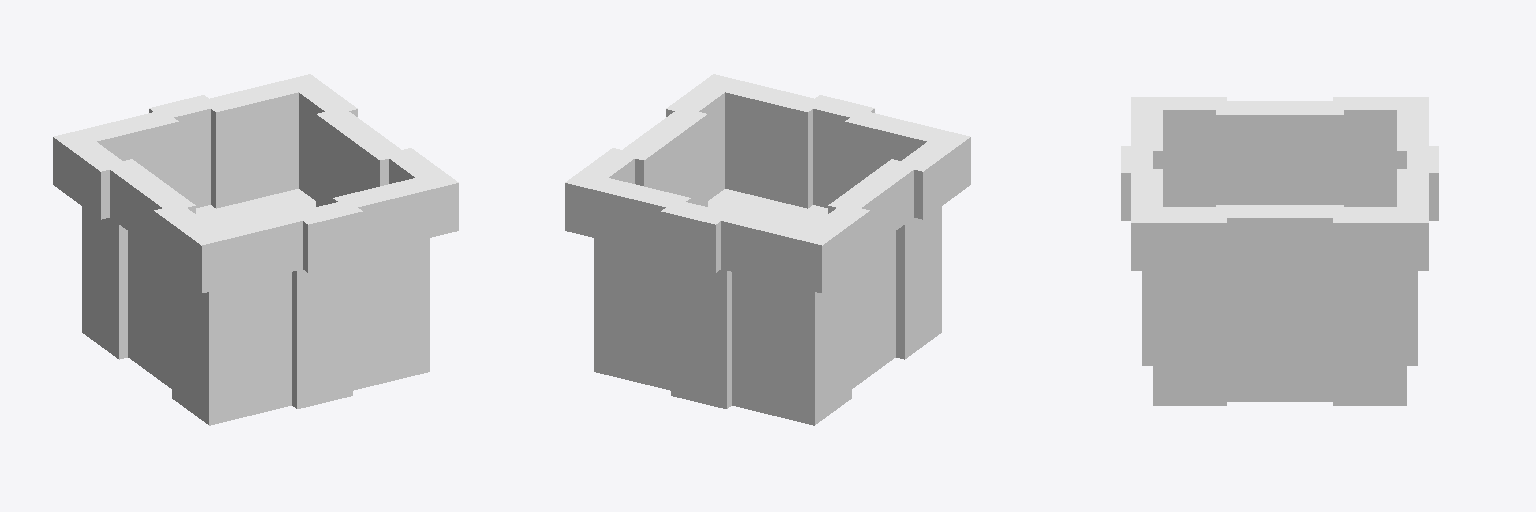
Rendered from Basura.obj.
The picture shows the model from 3 angles: view 1: azimuth 30°, elevation 25°; view 2: azimuth 150°, elevation 25°; view 3: azimuth 270°, elevation 25°; orthographic projection.
Visible parts, largest first — view 1: object 1; view 2: object 1; view 3: object 1.
Boxes of the visible parts, box(x1,y1,x2,y2) form: object 1: box(53, 74, 458, 425); object 1: box(565, 74, 970, 425); object 1: box(1121, 97, 1438, 405).
Bounding box in the file's own units: 2.8 × 2 × 3.